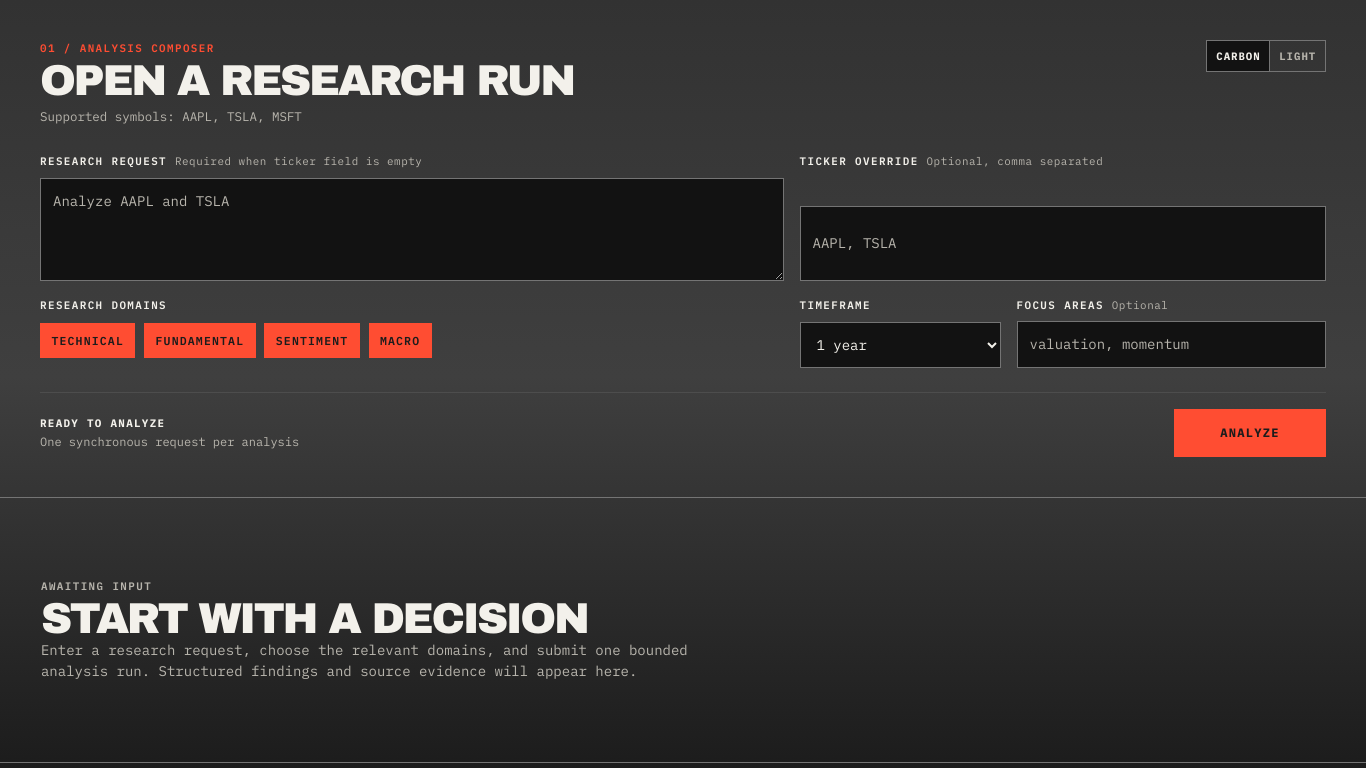
Test: dashboard states › keeps the empty state and focuses the request field for invalid input
Step 1. Click the button "Analyze" → (1250, 433), box [1174, 409, 1326, 457]
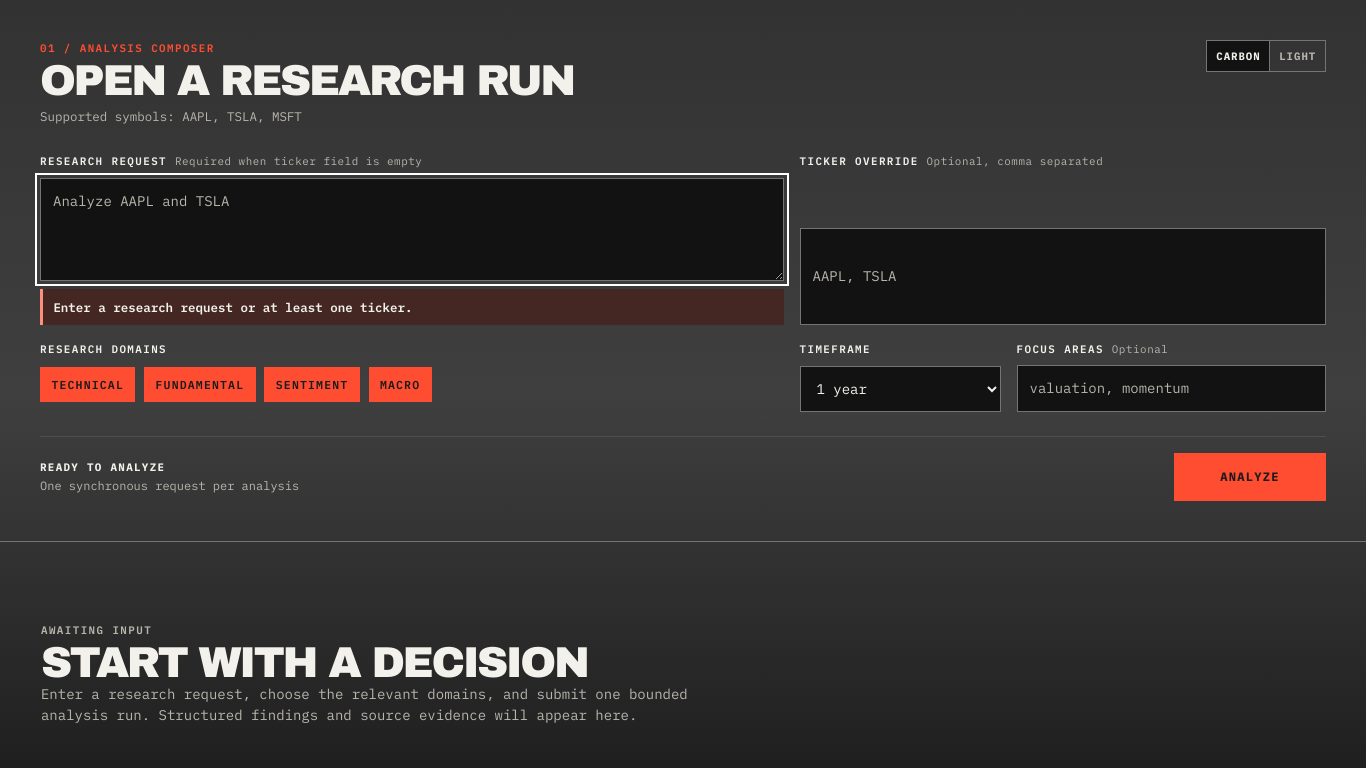
Expected: the heading "Start with a decision" is shown, [41, 639, 588, 686]
Expected: the message reads "Enter a research request or at least one ticker.", [53, 298, 412, 314]
